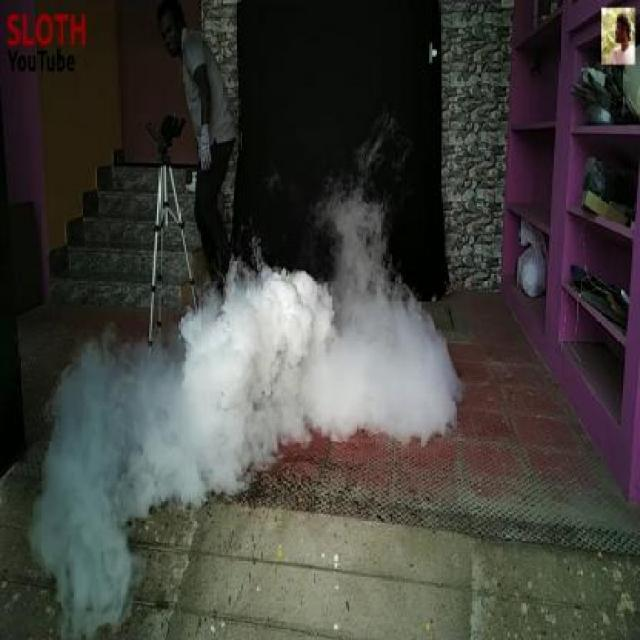smoke: (121, 286, 446, 426)
